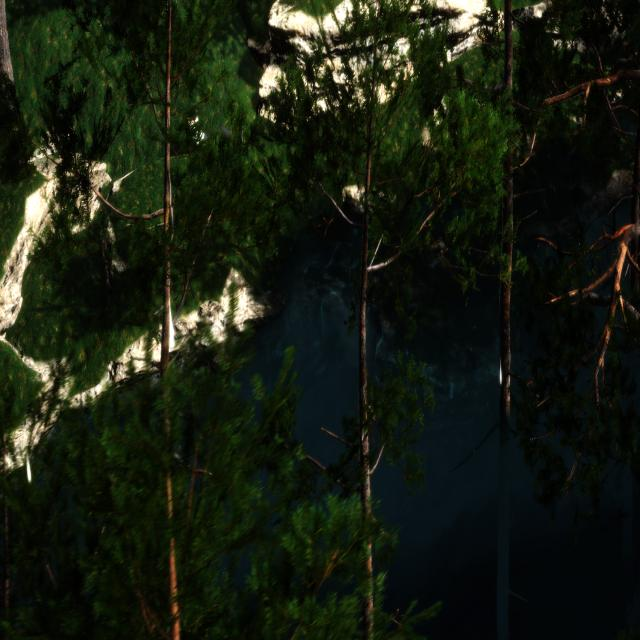Human: (182, 98, 245, 180)
